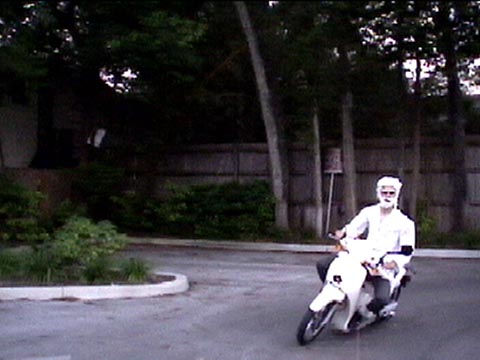person: (317, 176, 420, 314)
